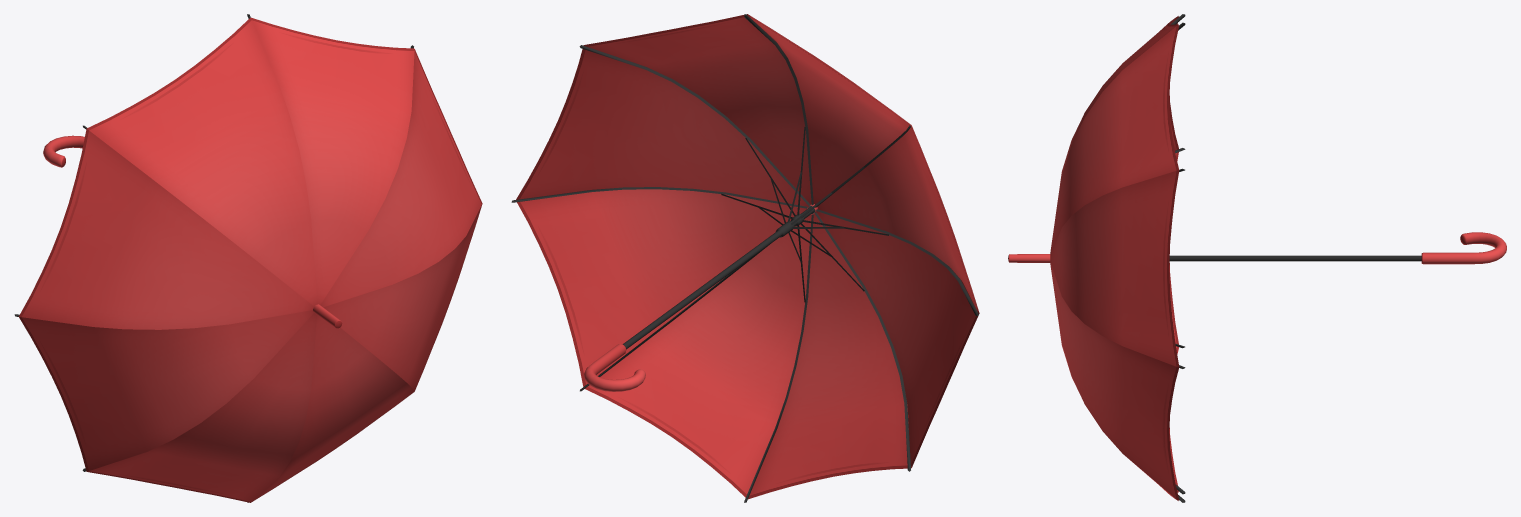
The model's file is kasa_open.fbx.
3 views of the same model, side by side, from view 1: azimuth 30°, elevation 25°; view 2: azimuth 150°, elevation 25°; view 3: azimuth 270°, elevation 25° (orthographic). The views are drawn at different scales.
Parts seen in each view (by area): view 1: kasa_open1; view 2: kasa_open1; view 3: kasa_open1.
Boxes of the visible parts, x1,y1,x2,y2 form: kasa_open1: (14,14,482,502); kasa_open1: (511,14,979,502); kasa_open1: (1008,14,1506,502).
Size of the model in its own units: 98.29 by 98.29 by 94.36.
